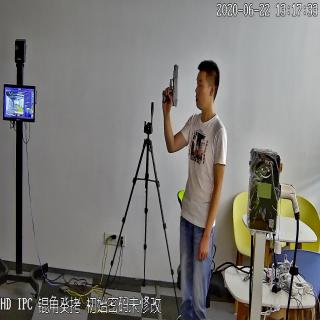gun: (158, 60, 180, 110)
